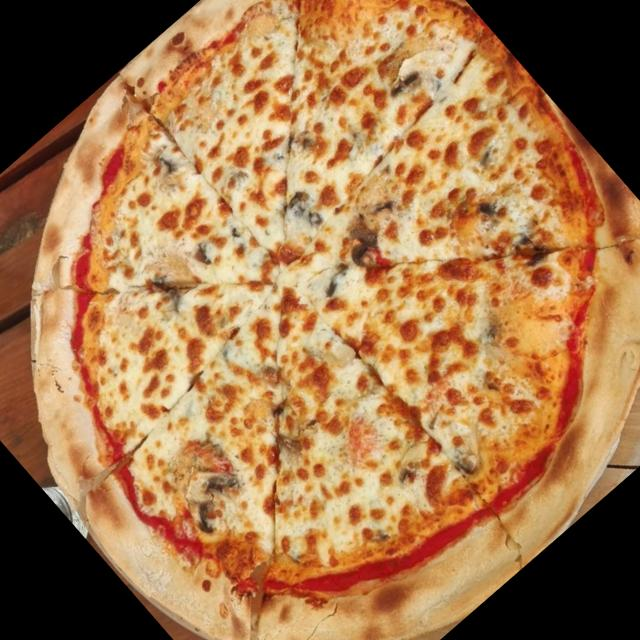mushrooms: (377, 32, 470, 123), (165, 457, 248, 537), (252, 387, 326, 462), (274, 174, 344, 246), (137, 246, 206, 314), (332, 205, 399, 272), (280, 124, 337, 180), (502, 222, 553, 276), (390, 432, 442, 482)
pizza: (30, 0, 640, 640)
